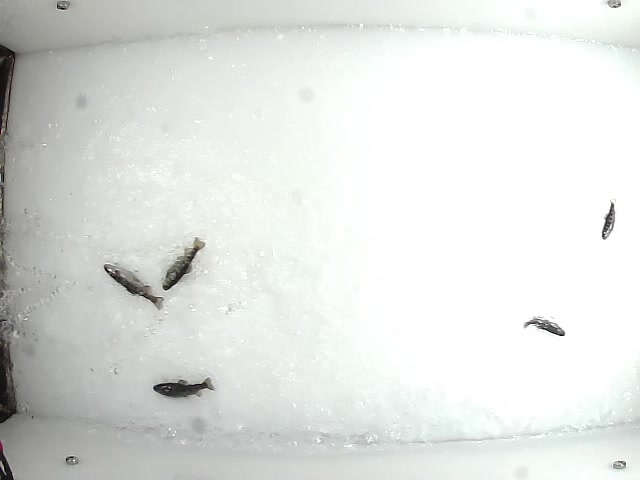fish: (101, 261, 165, 313), (158, 235, 208, 290), (150, 373, 216, 400), (523, 314, 567, 340), (598, 197, 618, 241)
